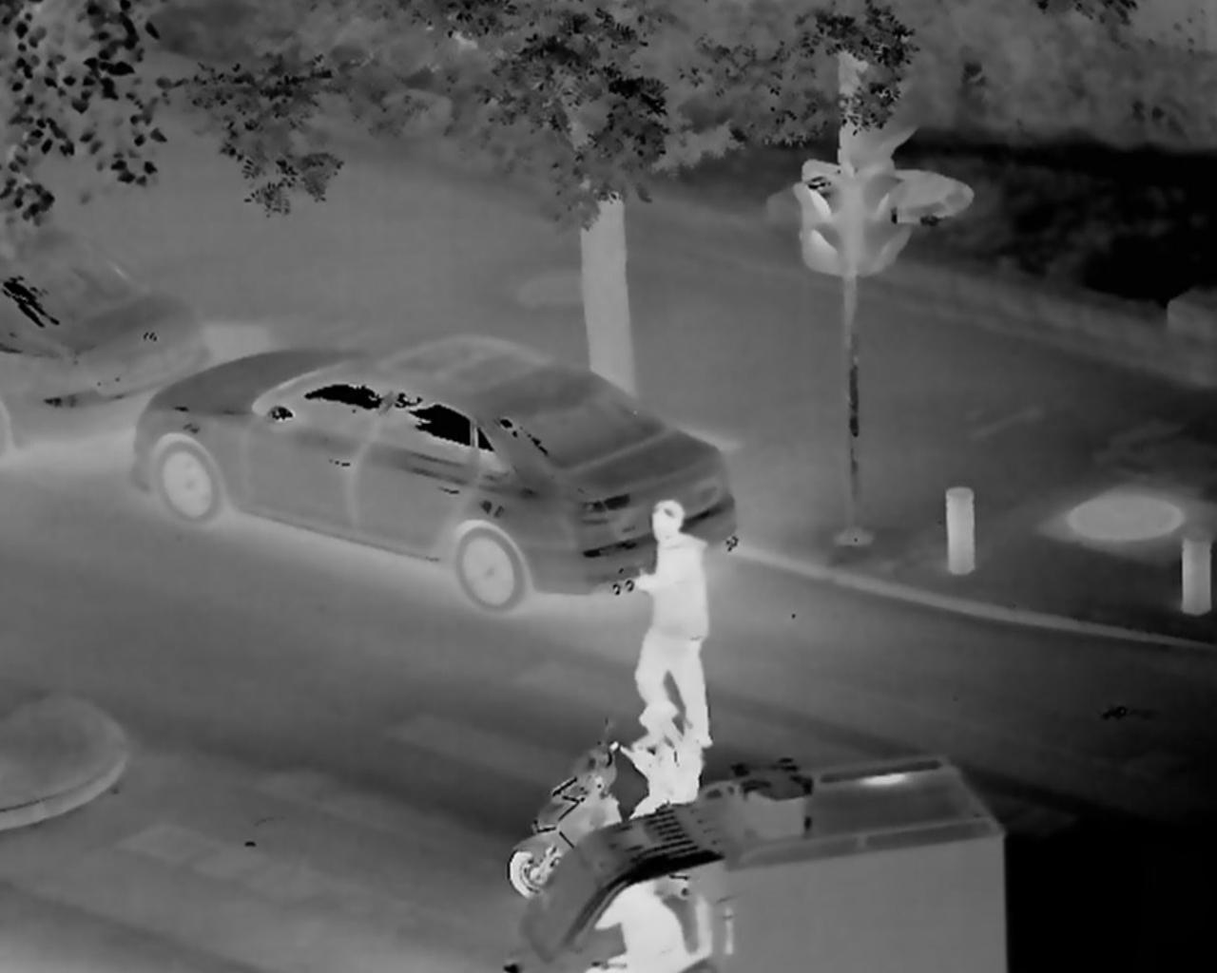person: (619, 498, 743, 745), (624, 712, 712, 832)
